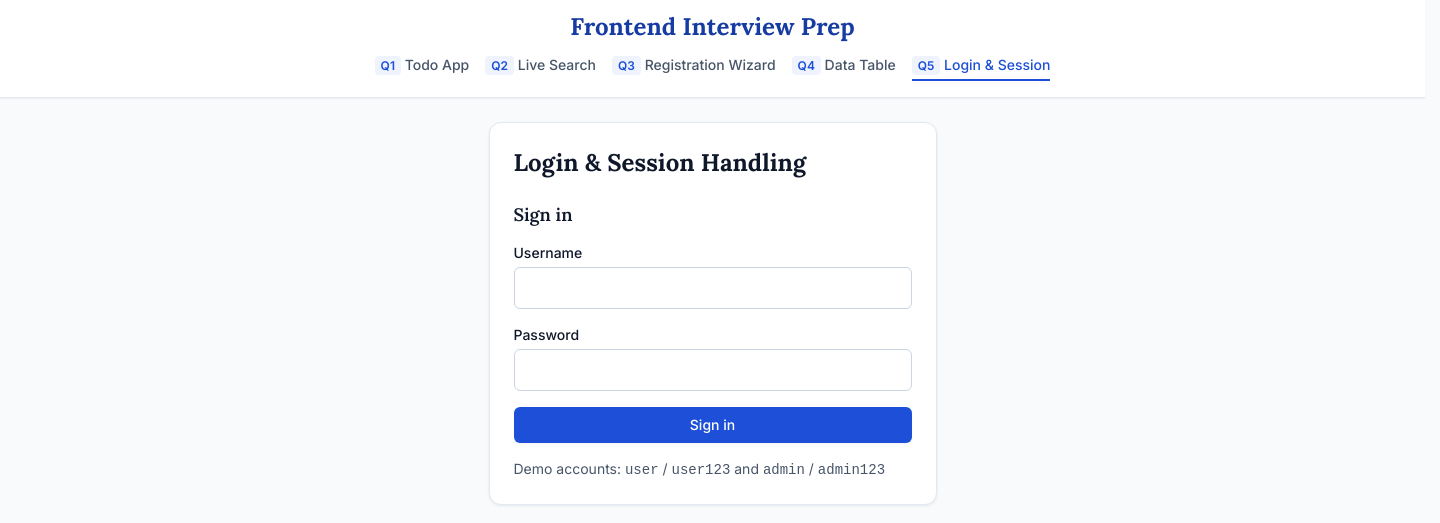
Test: login and session flow › takes the user back to the page they asked for after logging in
In the field labelled "Username": (712, 288) [514,267,912,309], type "admin"
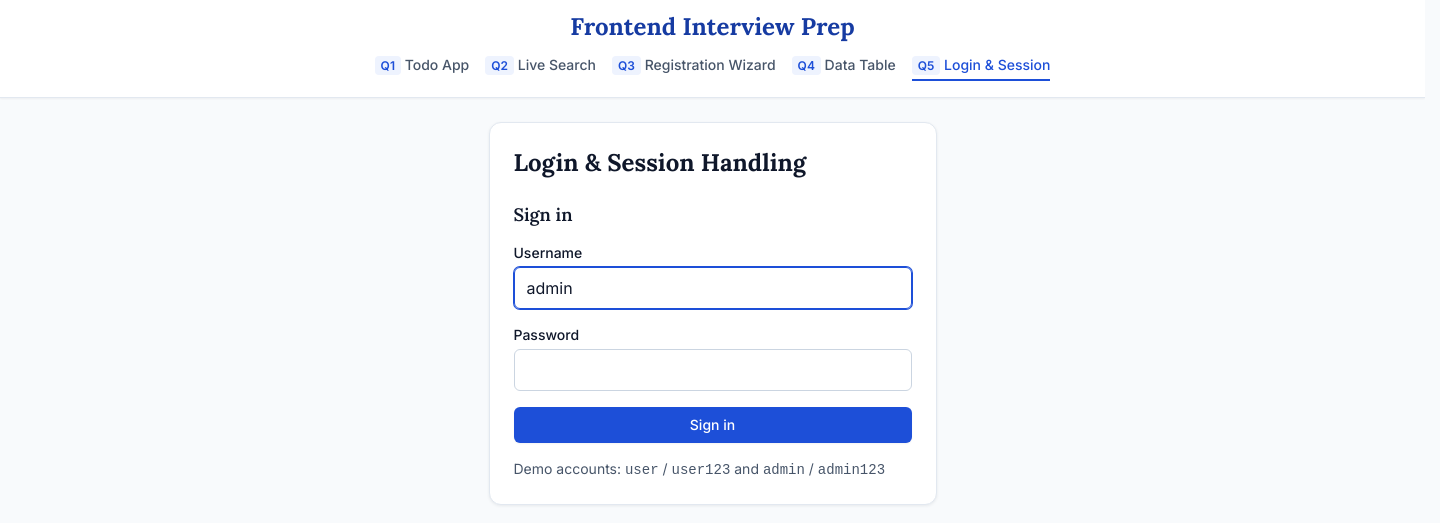
In the password field labelled "Password": (712, 370) [514,349,912,391], type "admin123"
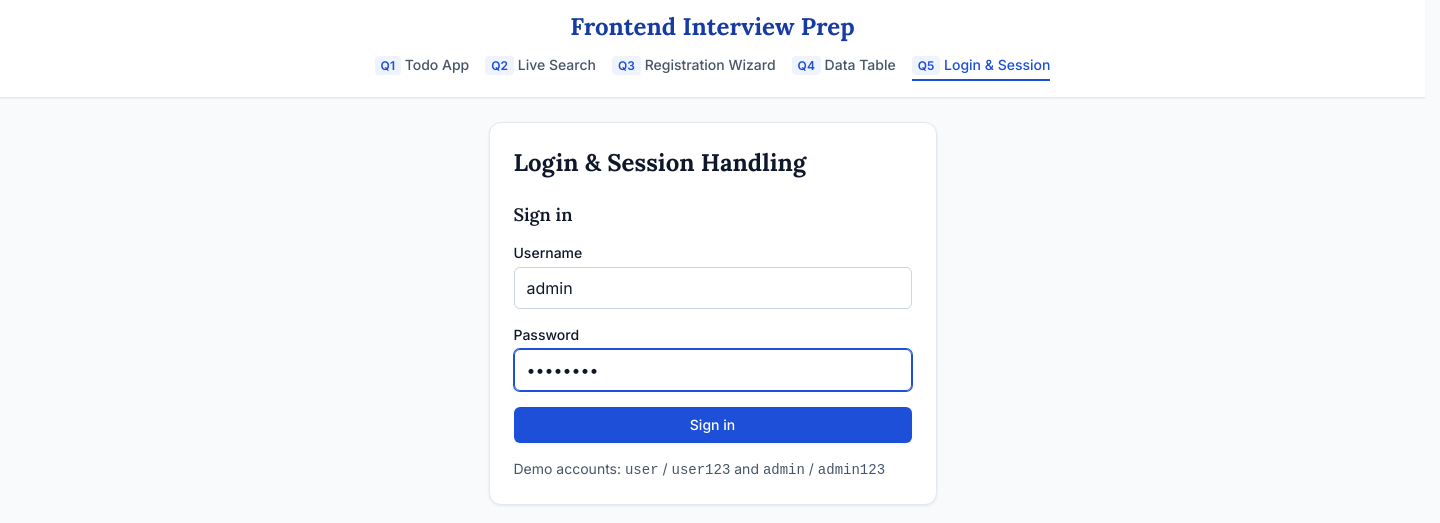
Click the button "Sign in": (712, 425) [514,407,912,443]
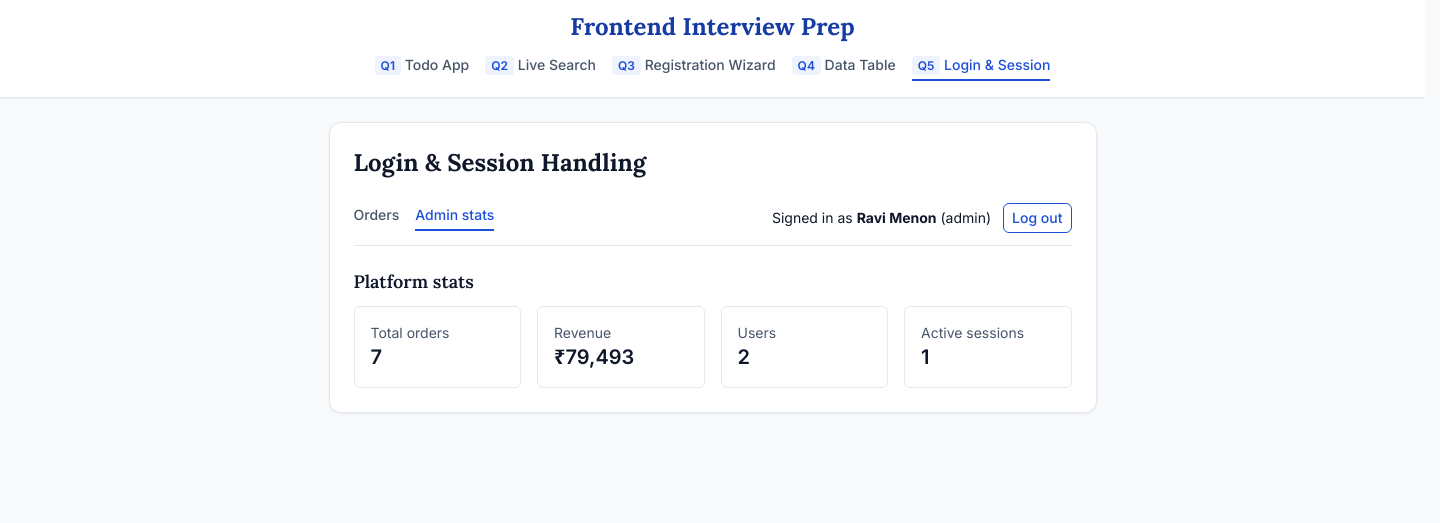
Expected: the heading "Platform stats" is shown, [354,270,474,293]
Expected: the text "Total orders" is shown, [370,324,450,341]
